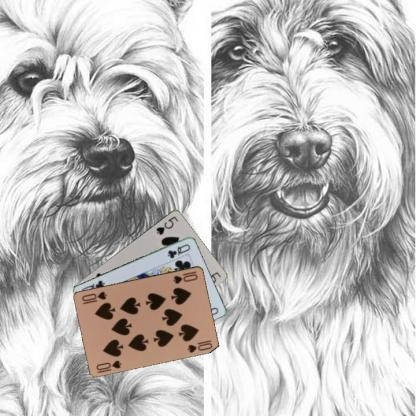10s: (170, 268, 199, 285), (94, 358, 122, 372)
5s: (154, 213, 179, 236)
Qc: (165, 241, 191, 259)
